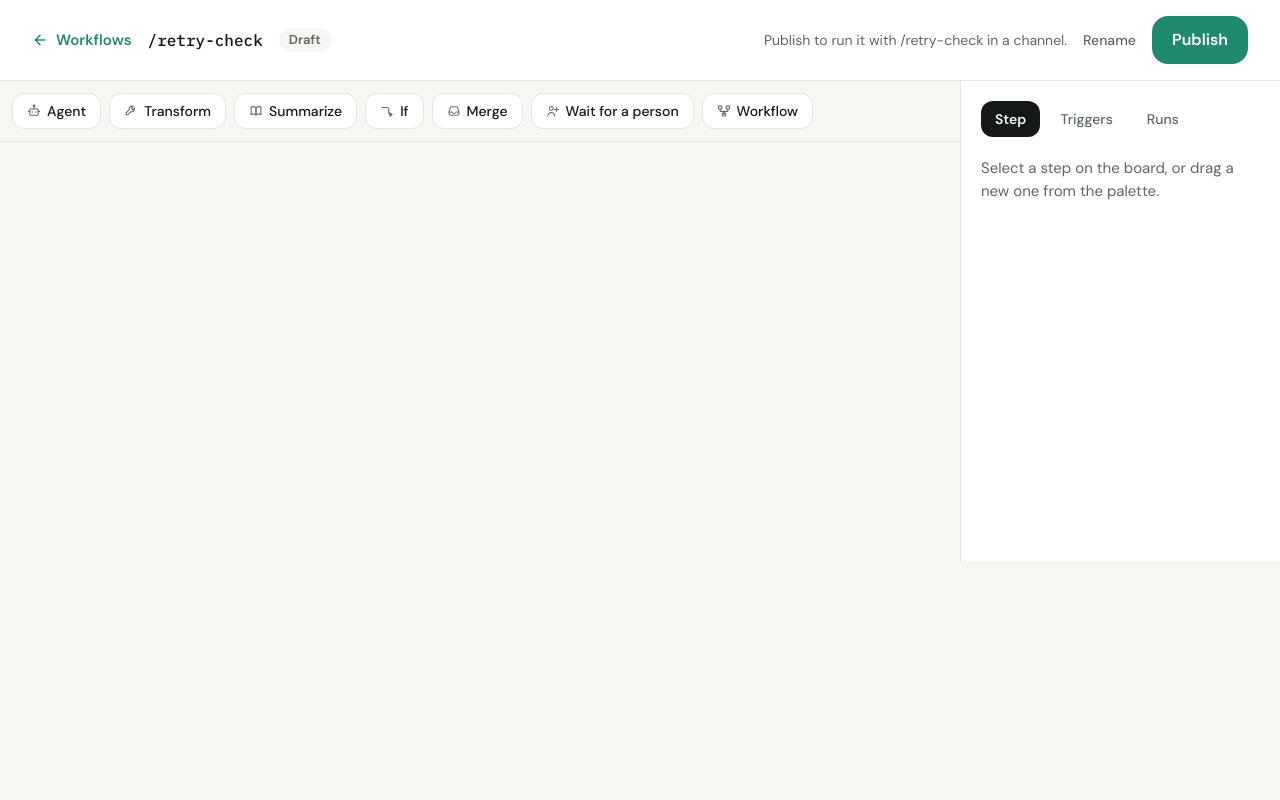
Test case: workflows/[id]/+page.svelte › lists run history under the Runs tab with its steps
Click the button "Runs" at (1163, 119), box [1133,101,1193,137]
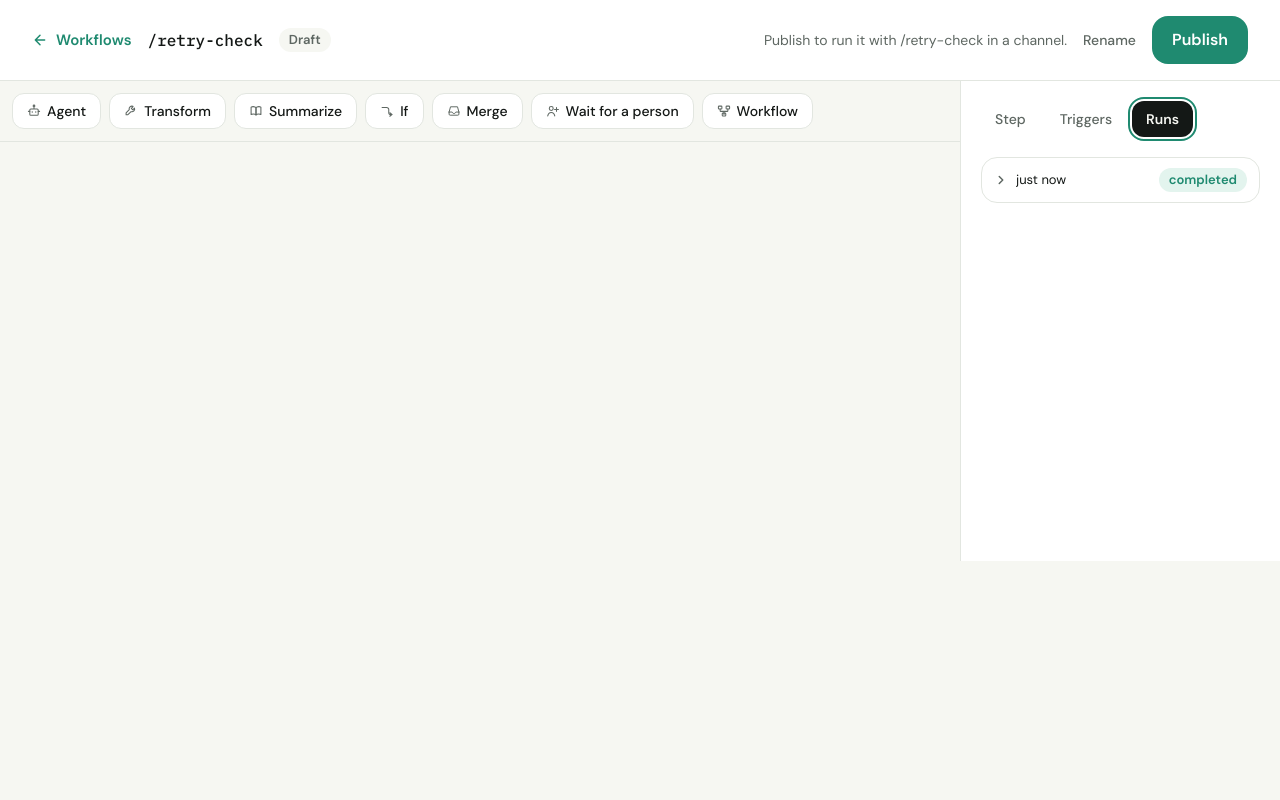
expect the text "completed" is shown: met
Click the text "completed" at (1203, 180), box [1159,168,1247,192]
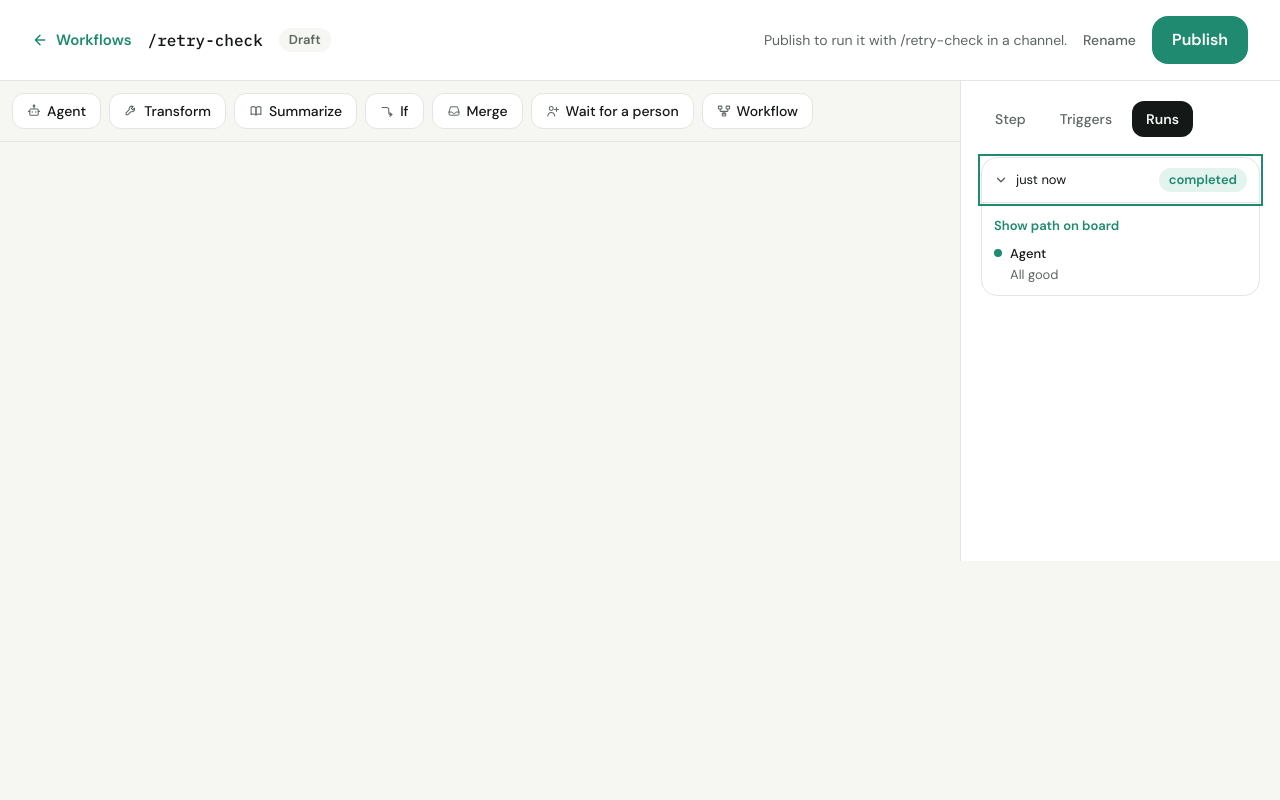
expect the text "All good" is shown: met, box [1010,266,1058,283]
expect the button "Show path on board" is shown: met, box [994,216,1119,236]
